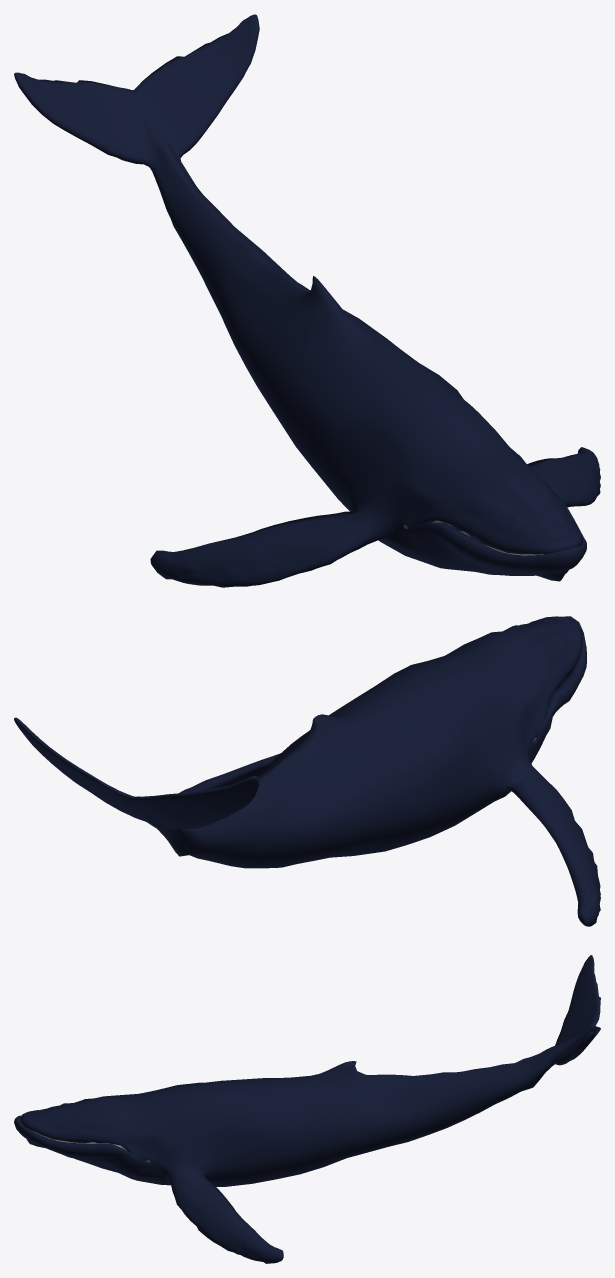
The model's file is whale_animation09.obj.
The picture shows the model from 3 angles, top to bottom: view 1: azimuth 30°, elevation 25°; view 2: azimuth 150°, elevation 25°; view 3: azimuth 270°, elevation 25°; orthographic projection. The views are drawn at different scales.
Parts seen in each view (by area): view 1: Whale; view 2: Whale; view 3: Whale.
Part boxes in pixels (x1=…): Whale: x1=14, y1=14, x2=600, y2=587; Whale: x1=14, y1=616, x2=600, y2=926; Whale: x1=14, y1=955, x2=600, y2=1263.
Bounding box in the file's own units: 10.2 × 6.74 × 17.84.
